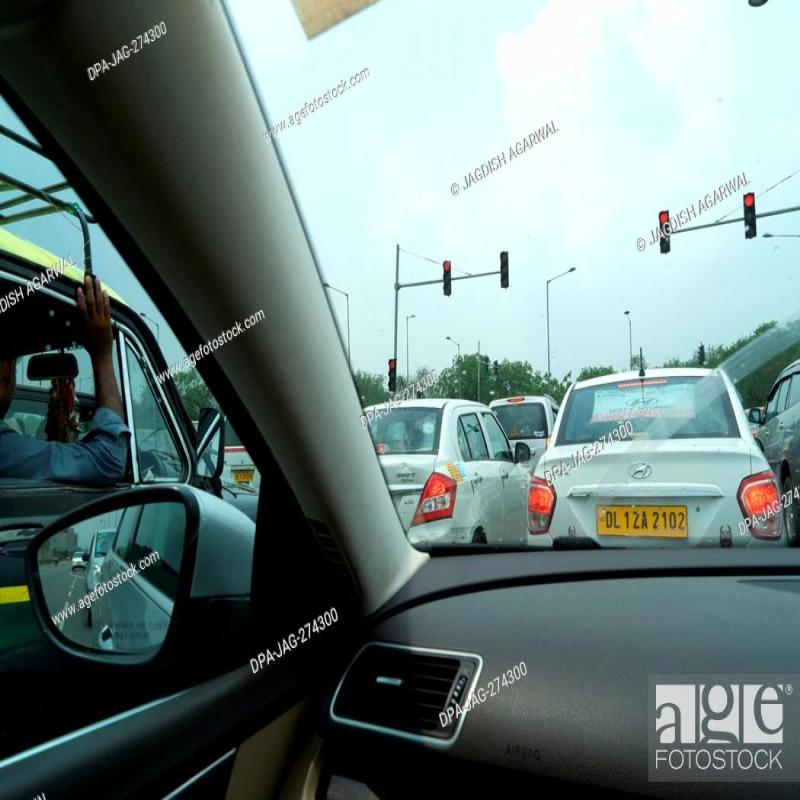car: (525, 360, 786, 570)
